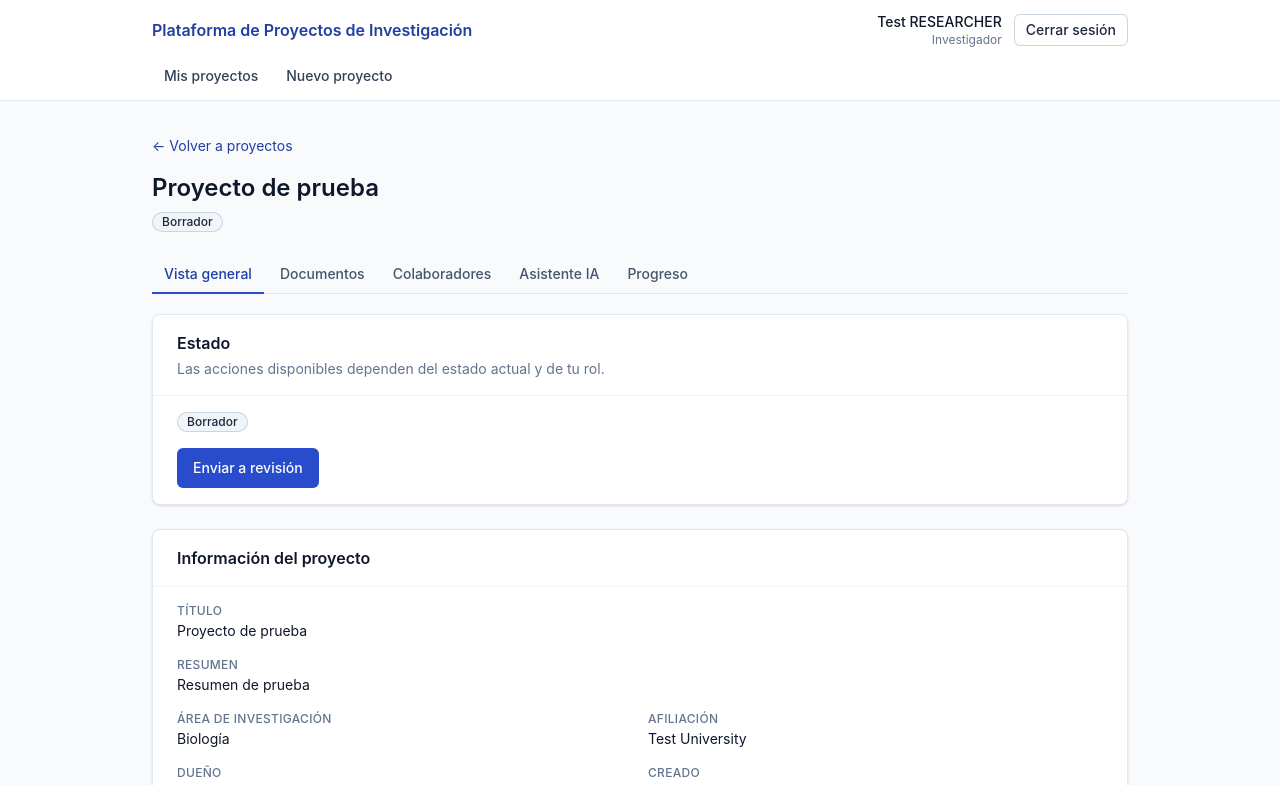
Test: project workspace: overview and status actions › submits for review: sends PUT /status and shows the new state
Click the button "Enviar a revisión" at (248, 468), box [177,448,319,488]
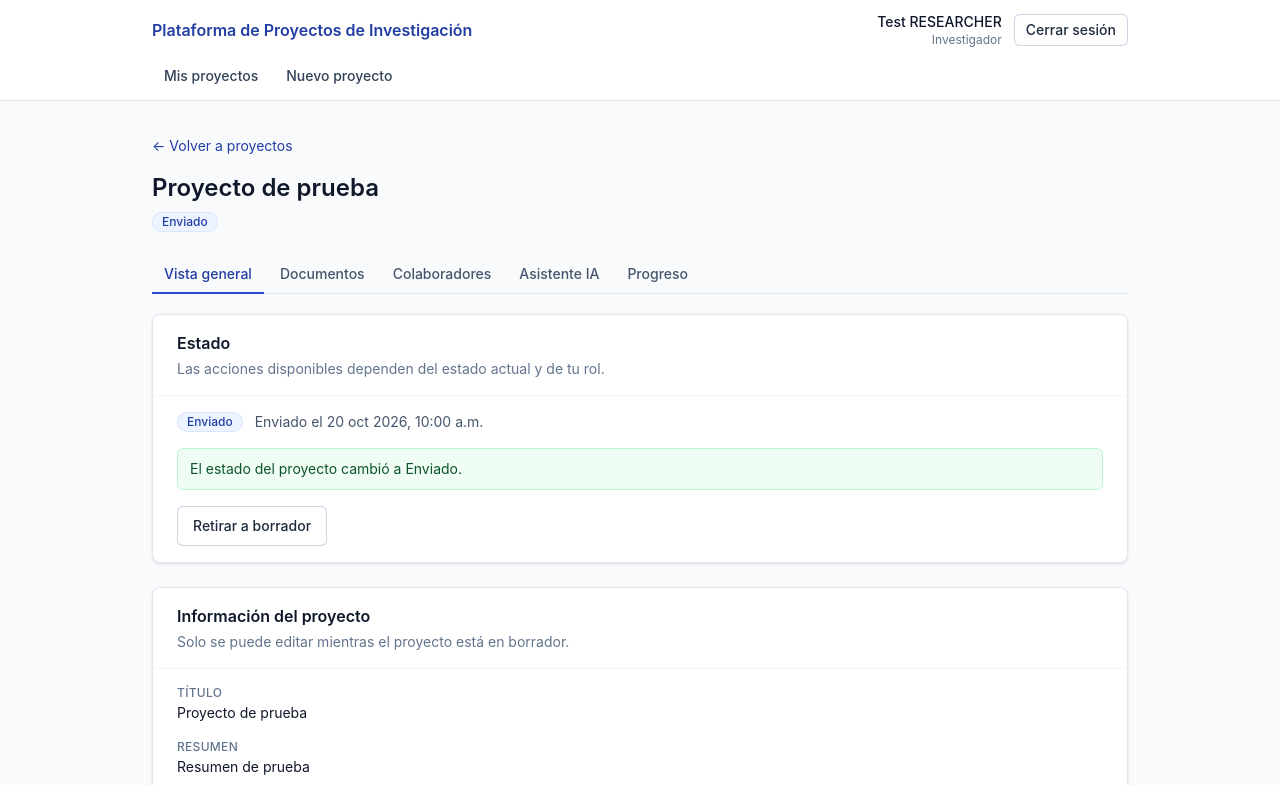
Expected: the message reads "El estado del proyecto cambió a Enviado.", [190,460,462,477]
Expected: the button "Retirar a borrador" is shown, [177,506,327,546]
Expected: the button "Enviar a revisión" is gone
